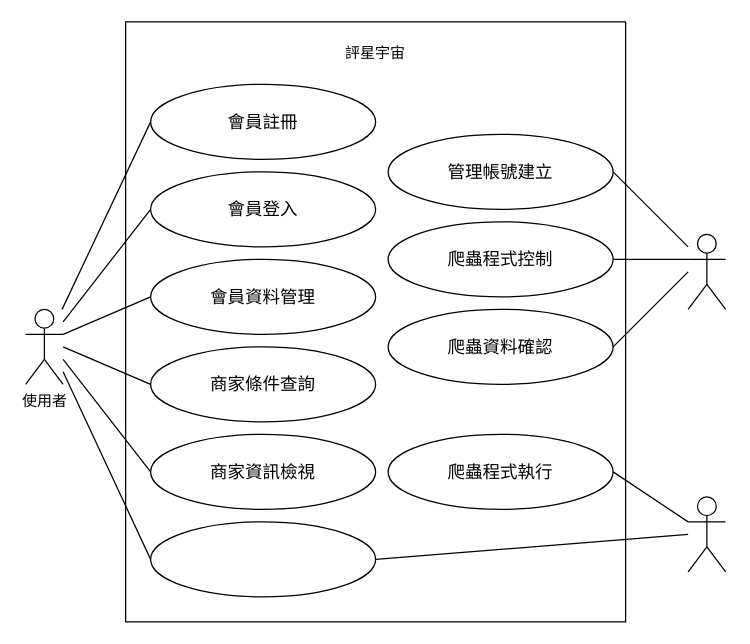
Some shapes in this 750 by 644 pixel diagram are drawn without their labels. Each missing label, with the centre of its shape:
特定商家推薦: the point at 262,559
管理者: the point at 706,271
系統: the point at 706,534
